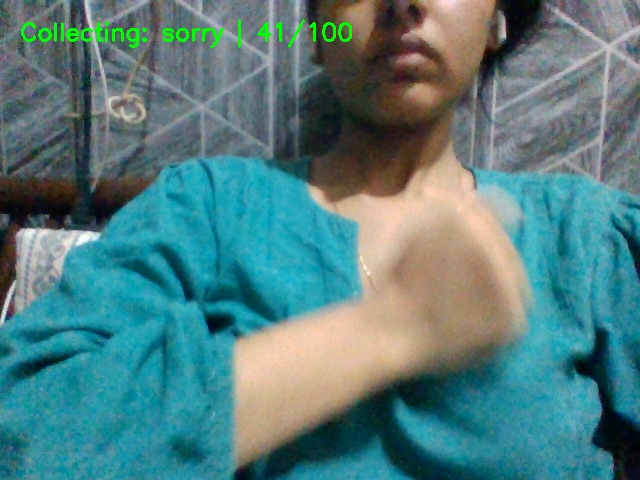sorry: (348, 160, 640, 434)
